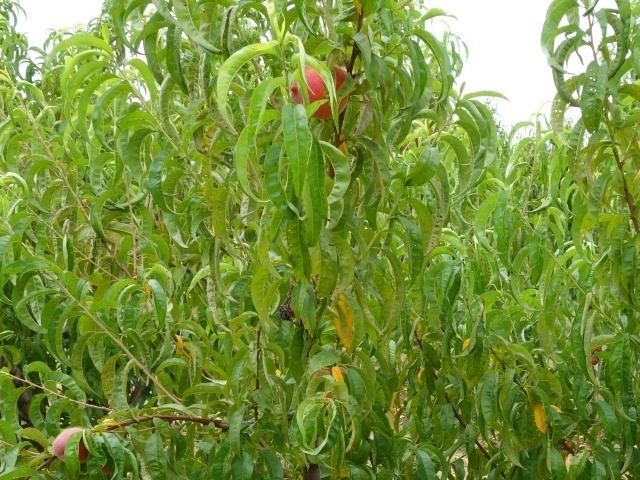peach: (284, 59, 355, 121), (47, 422, 94, 464)
